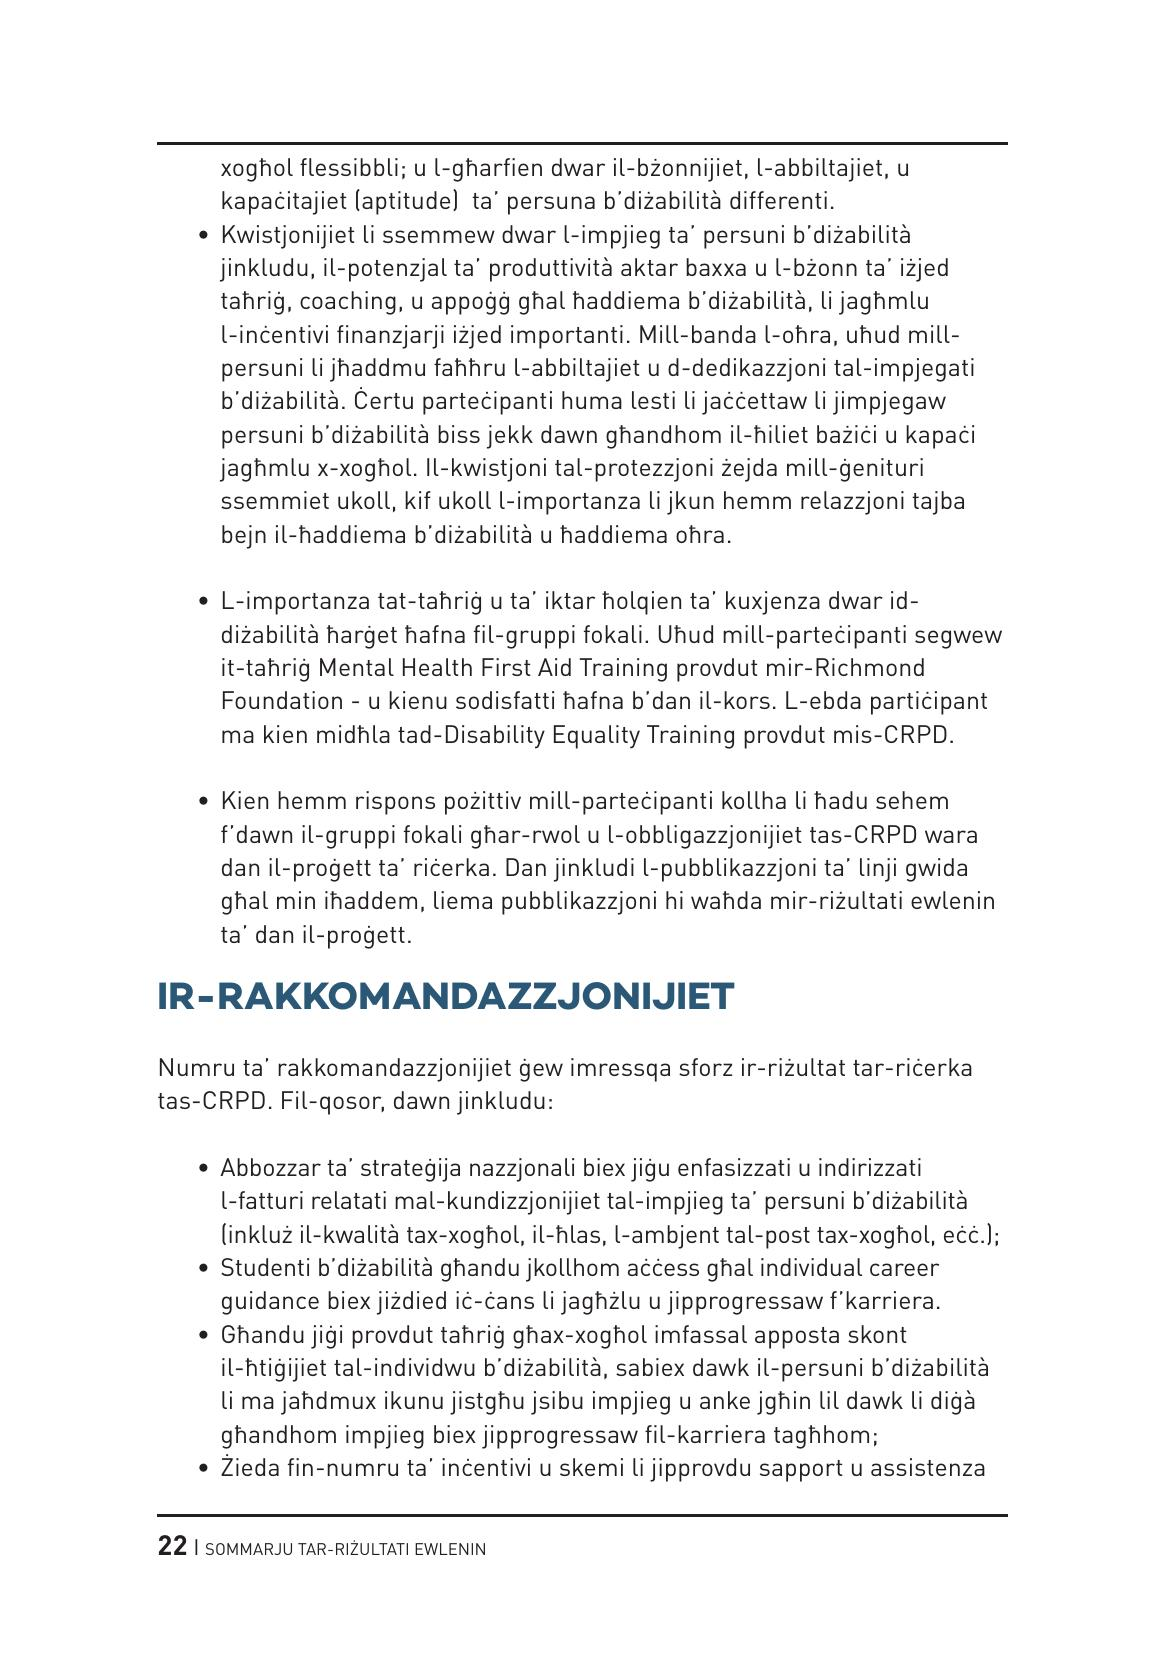text: (134, 150, 1035, 1498)
